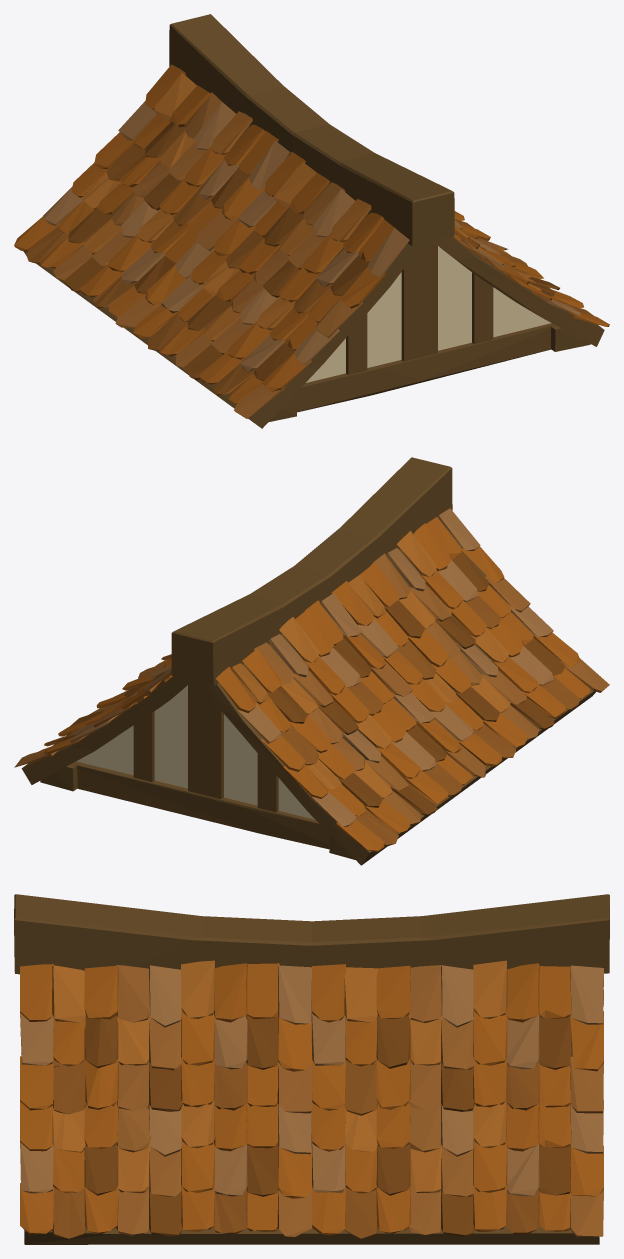
Rendered from Roof_01.fbx.
3 renders of one model, top to bottom at view 1: azimuth 30°, elevation 25°; view 2: azimuth 150°, elevation 25°; view 3: azimuth 270°, elevation 25°, orthographic. The views are drawn at different scales.
Visible parts, largest first — view 1: Roof_01; view 2: Roof_01; view 3: Roof_01.
Boxes of the visible parts, x1=… form: Roof_01: x1=14, y1=14, x2=609, y2=428; Roof_01: x1=14, y1=457, x2=609, y2=865; Roof_01: x1=14, y1=894, x2=609, y2=1244.
Size of the model in its own units: 5.87 by 2.94 by 6.63.
